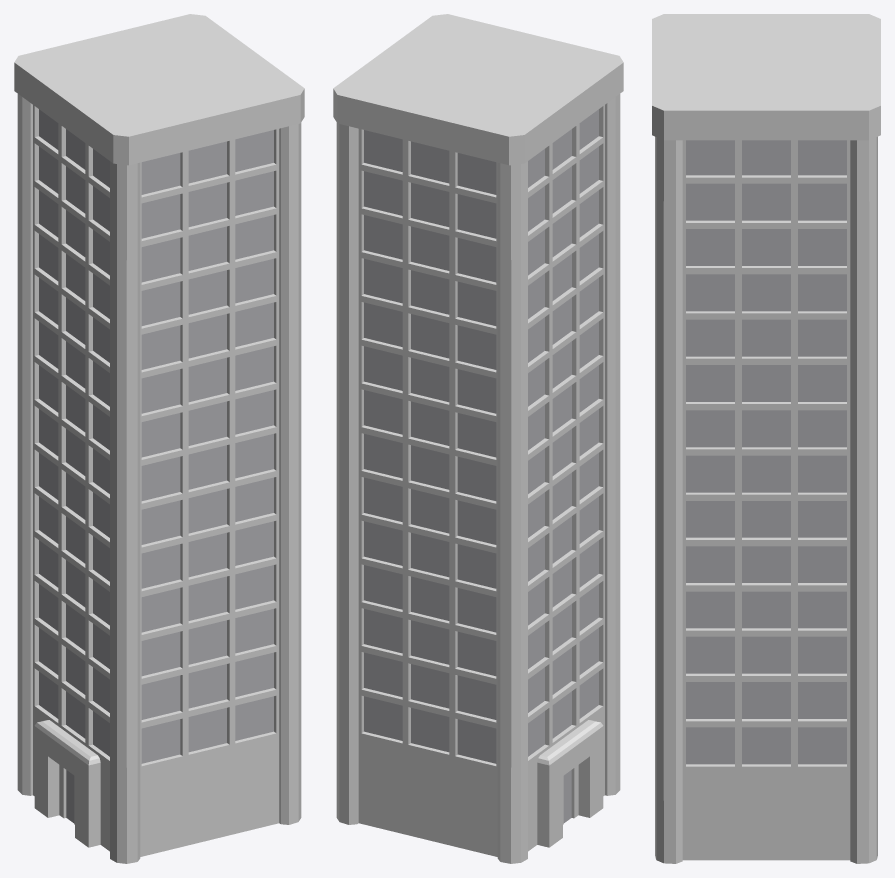
The model's file is skyscraperF.fbx.
The picture shows the model from 3 angles, left to right: view 1: azimuth 30°, elevation 25°; view 2: azimuth 150°, elevation 25°; view 3: azimuth 270°, elevation 25°; orthographic projection. The views are drawn at different scales.
Parts seen in each view (by area): view 1: SkyscraperF; view 2: SkyscraperF; view 3: SkyscraperF.
Part boxes in pixels (bbox=[...]): SkyscraperF: bbox=[14, 14, 304, 863]; SkyscraperF: bbox=[333, 14, 623, 863]; SkyscraperF: bbox=[652, 14, 880, 863].
Bounding box in the file's own units: 676 × 2431 × 668.
